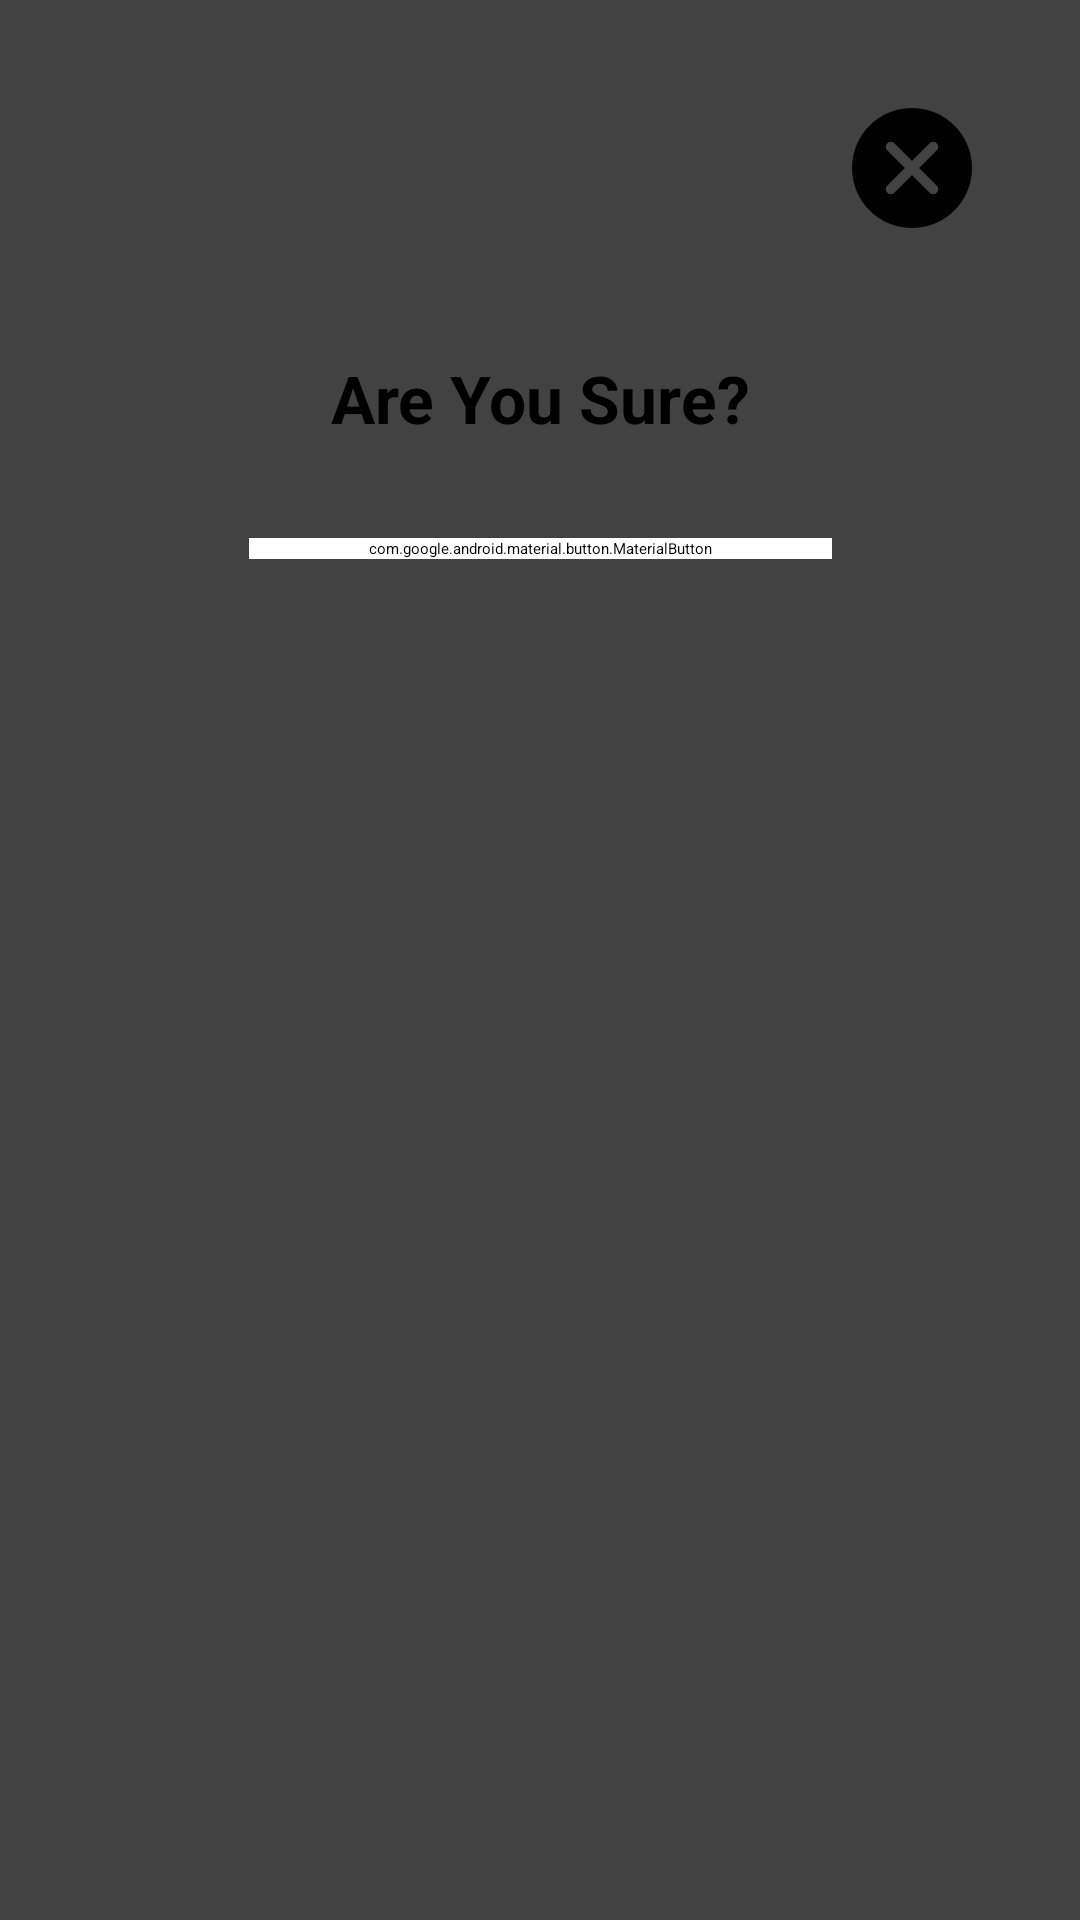

Where icons sit on this 1080w x 1920h app screen, as (x1, y1, x2, y2):
cancel: (852, 108, 972, 228)
